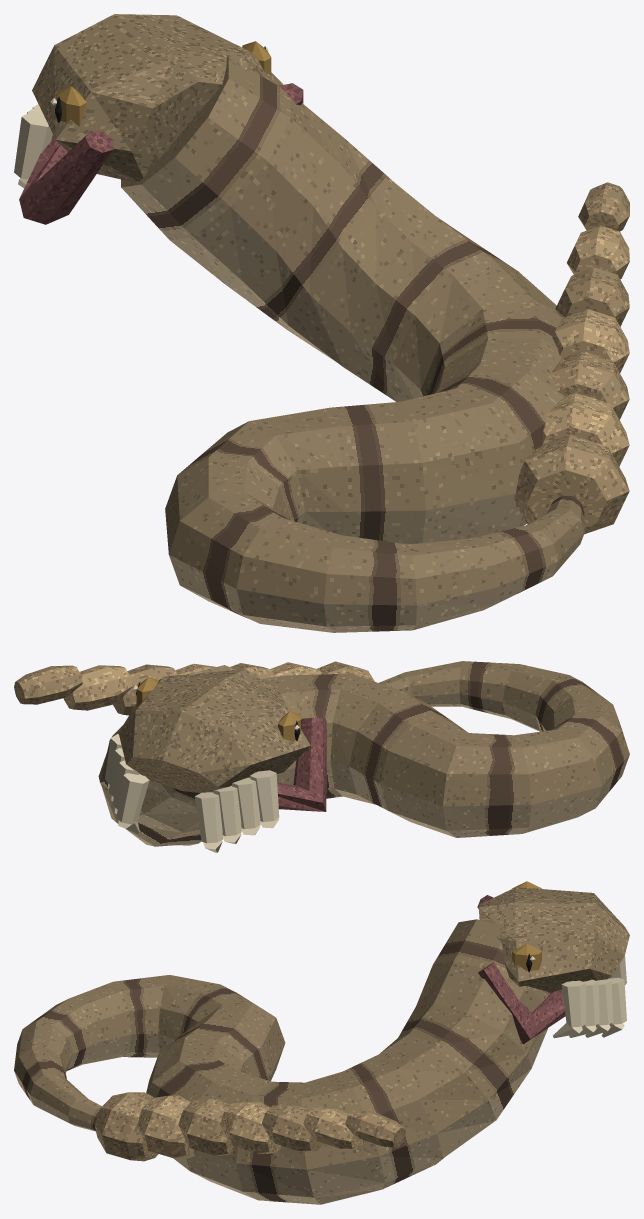
The model's file is mon_rattlesnake_mega.glb.
3 renders of one model, top to bottom at view 1: azimuth 30°, elevation 25°; view 2: azimuth 150°, elevation 25°; view 3: azimuth 270°, elevation 25°, orthographic. The views are drawn at different scales.
Visible parts, largest first — view 1: closed_body; view 2: closed_body; view 3: closed_body.
Boxes of the visible parts, x1,y1,x2,y2 form: closed_body: (14, 14, 629, 632); closed_body: (14, 661, 629, 852); closed_body: (14, 881, 629, 1204).
Bounding box in the file's own units: 2.71 × 1.43 × 3.4.
Materials: 1 (1 with a texture image).
